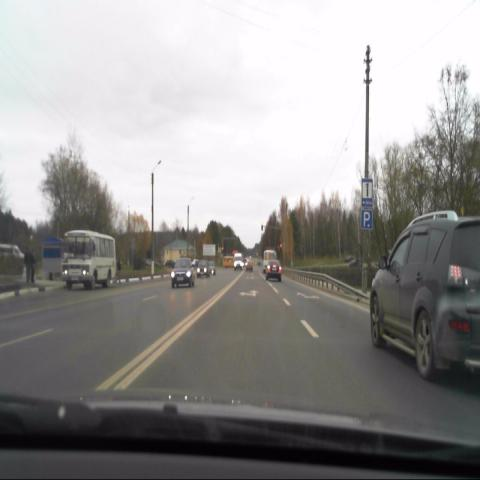7_4: (361, 178, 372, 206)
